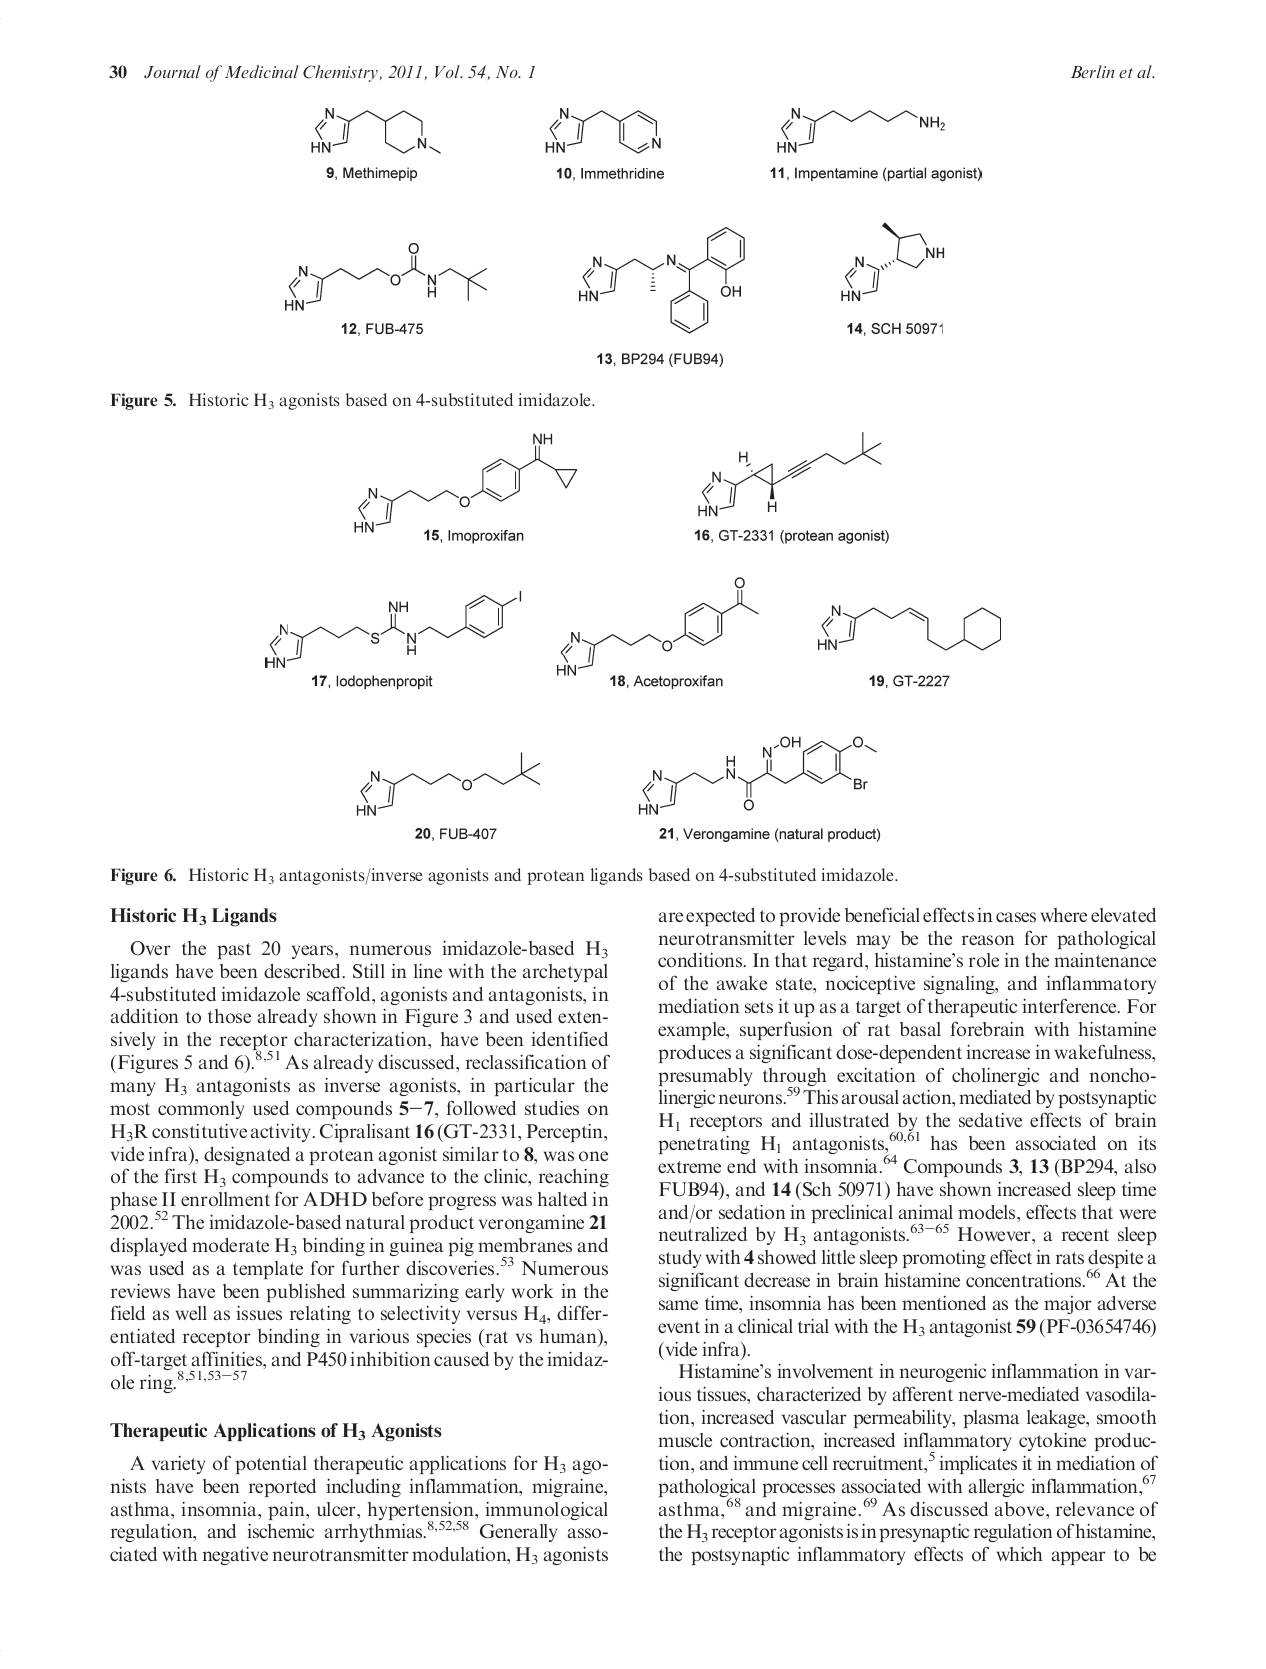exist_molecular: (352, 432, 580, 533), (551, 576, 765, 681), (263, 586, 527, 670), (636, 734, 880, 817), (574, 226, 751, 332), (693, 430, 887, 519), (282, 241, 489, 313), (351, 749, 545, 817), (813, 597, 1009, 660), (835, 219, 947, 309), (775, 102, 947, 152), (309, 102, 443, 157), (539, 104, 664, 160)
